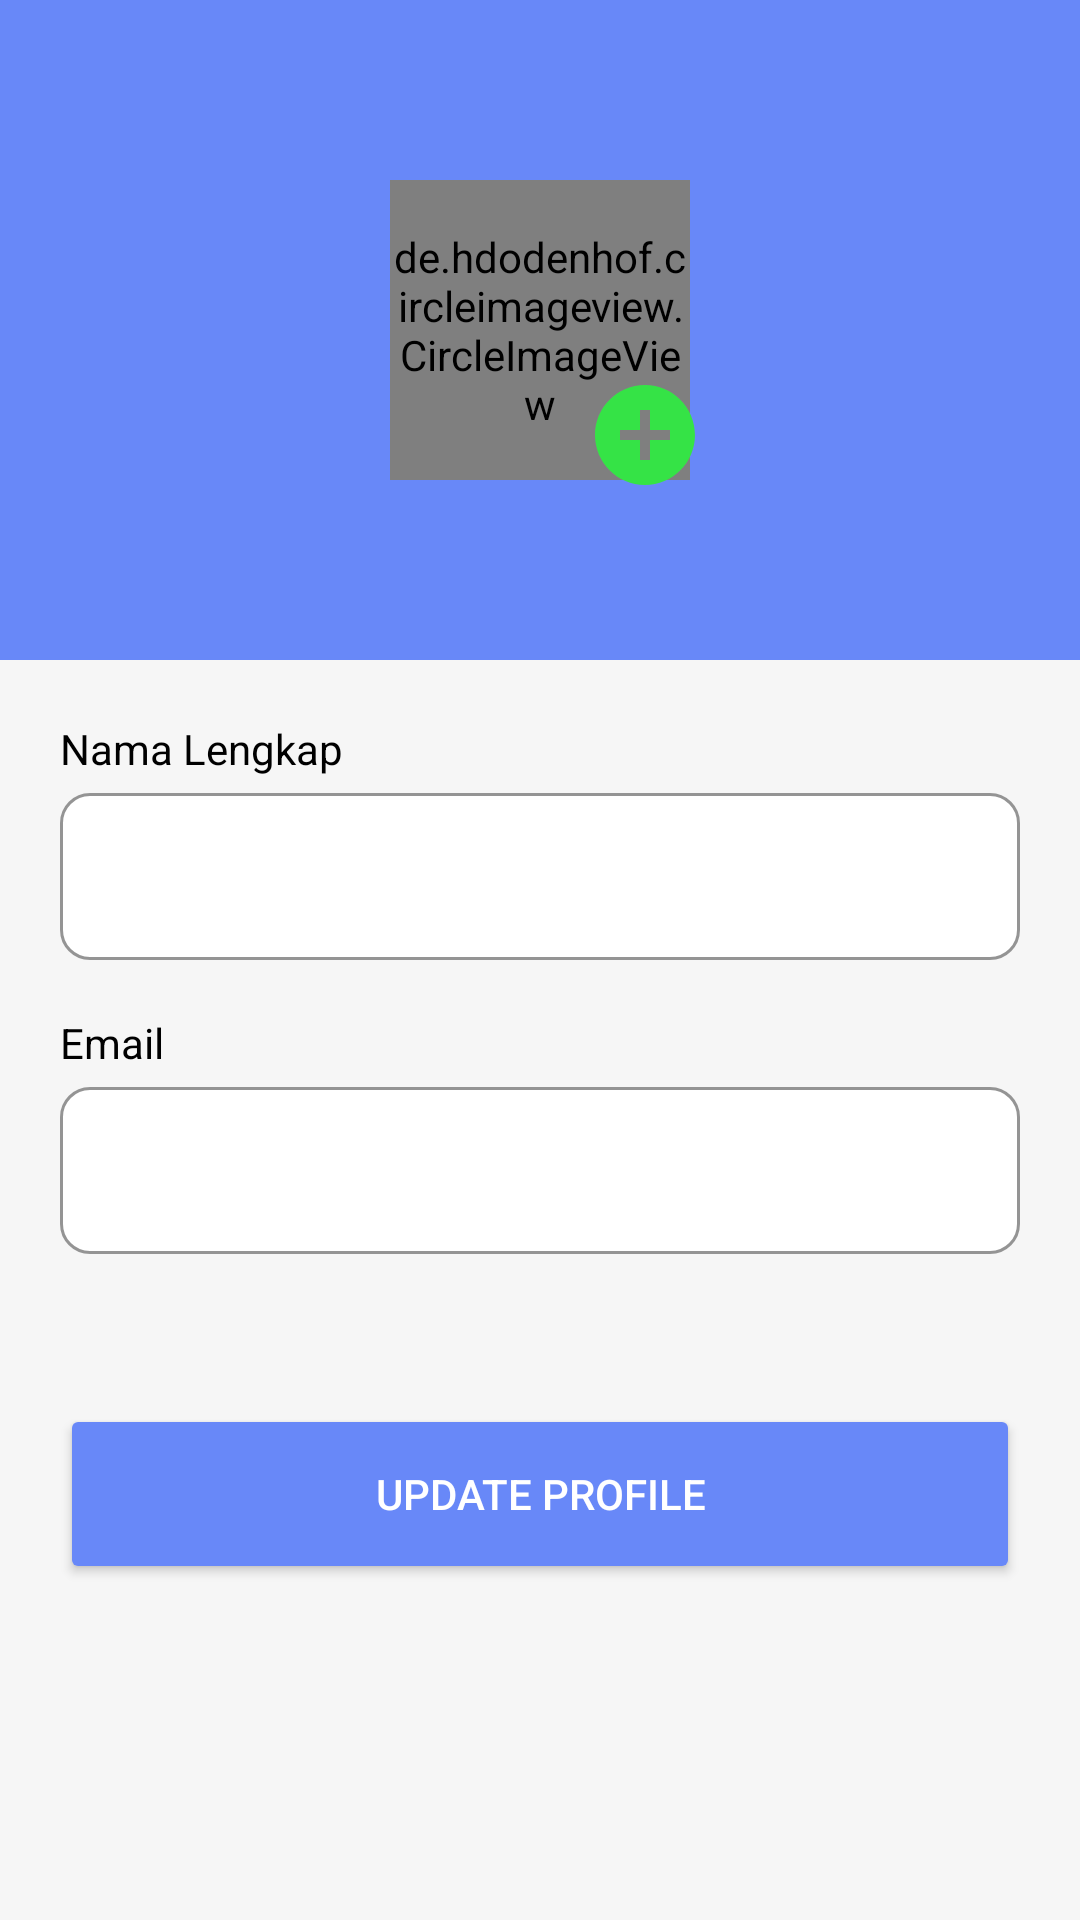

Icons on this 1080 x 1920 Android screen, each with the point to tap as (x,y):
add circle: (645,435)
